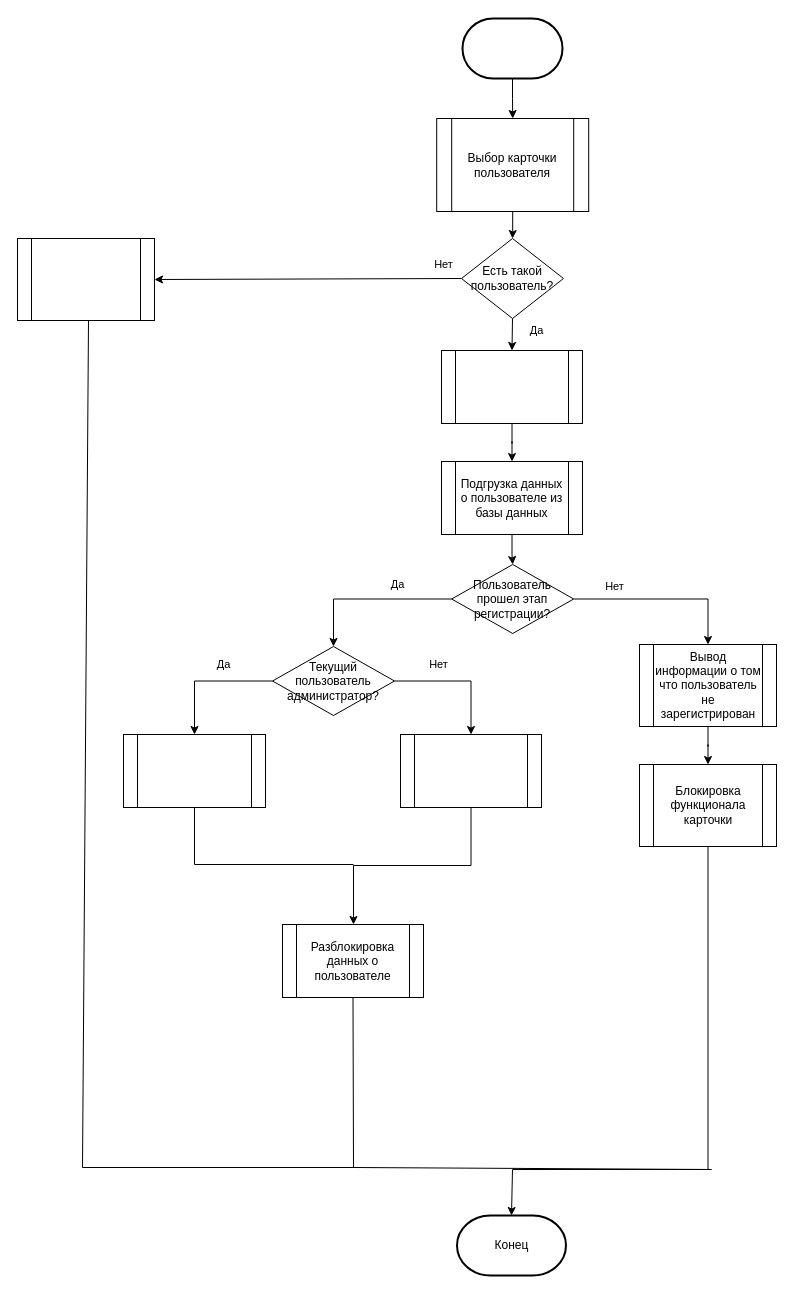
Image size: 794x1293. Some labels were removed from this diagram. The shapes that lost their labels are listed below. From the top down, each one's box as (x1, y1, x2, y2) in pixels, then its label:
(461, 17, 563, 79): Начало
(16, 238, 154, 320): Вывод сообщения пользователю что на сервере произошла ошибка
(440, 350, 582, 424): Открытие модального окна с информацией о выбранном пользователе
(122, 734, 266, 808): Разблокировка функционала редактирования и удаления пользователя
(400, 734, 542, 808): Блокировка функционала редактирования и удаления пользователя
